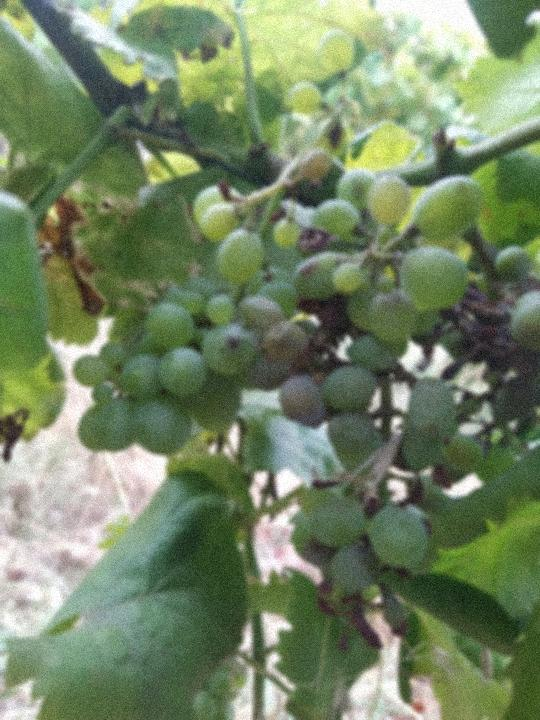grape: (189, 139, 540, 659)
